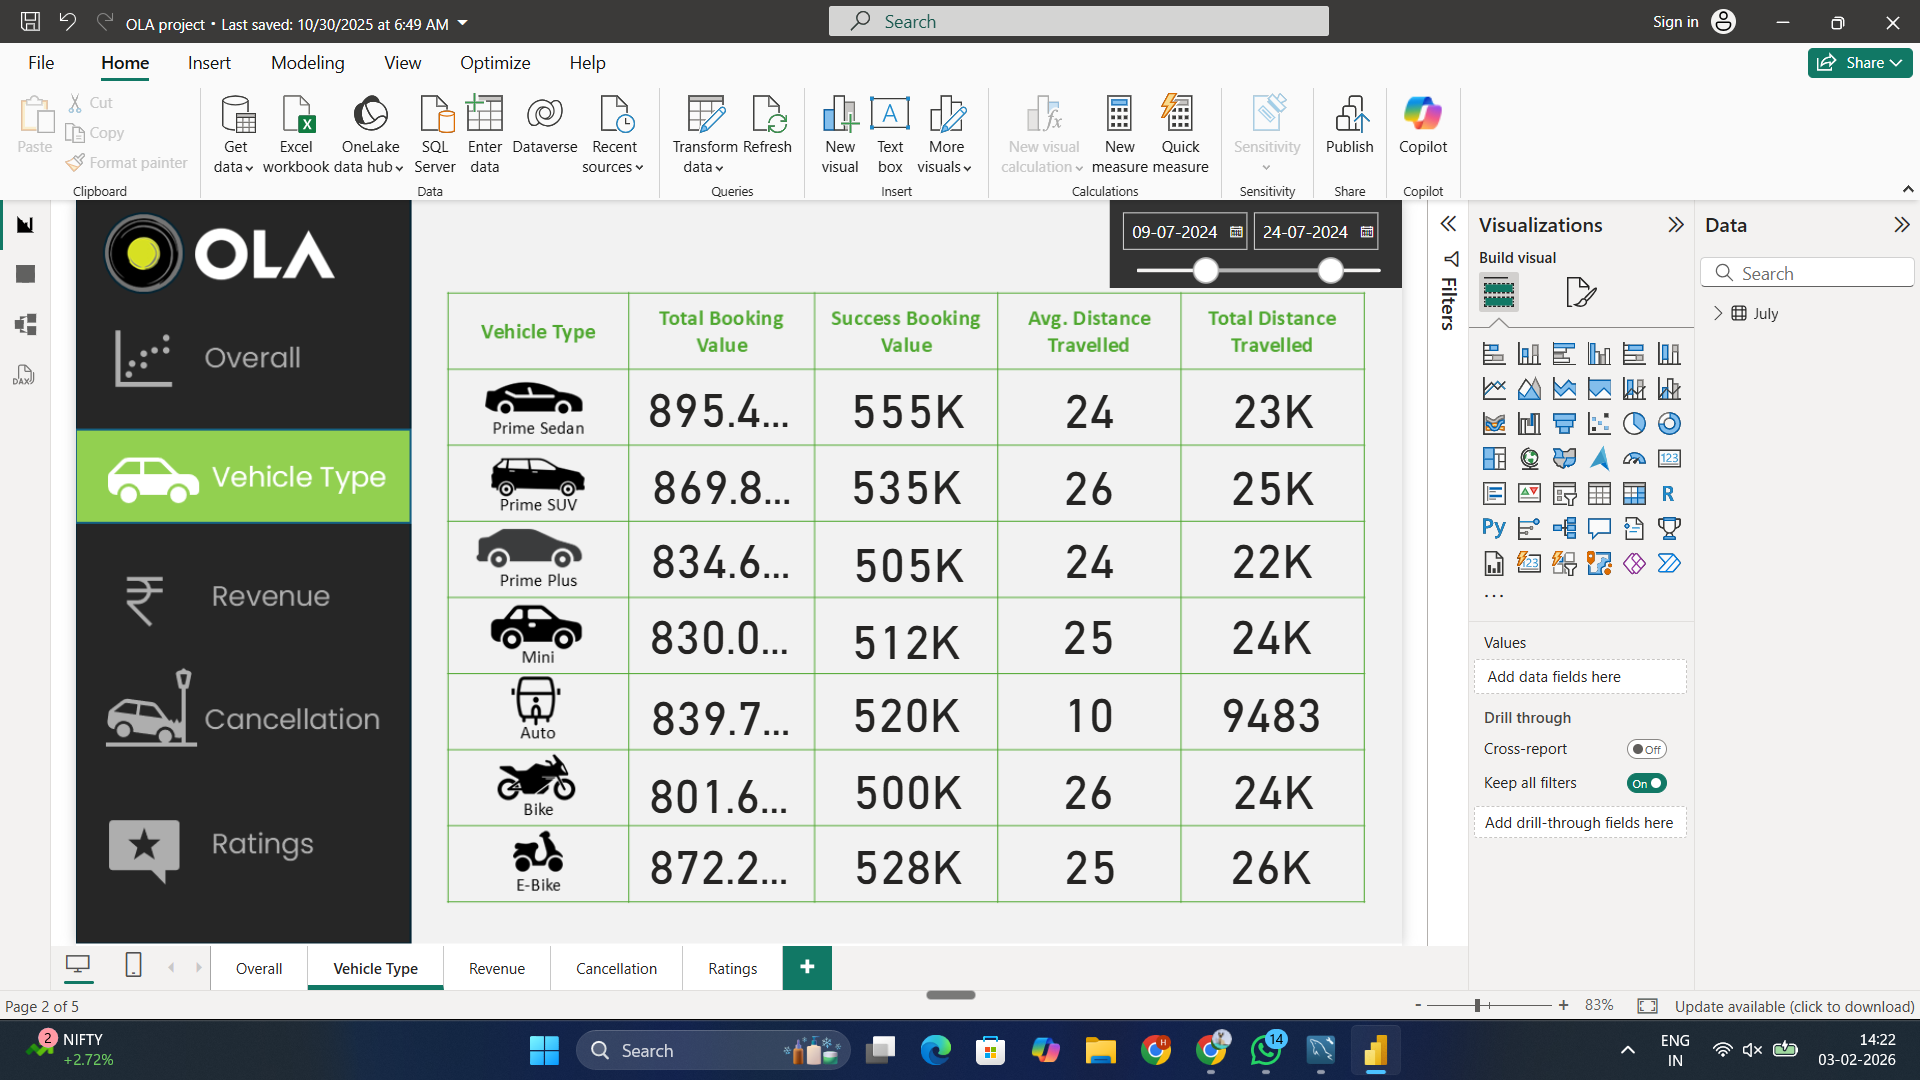

What the dashboard file says about the page in this screenshot:
{"tool":"powerbi","page":{"name":"Vehicle Type","canvas":[1280,720],"ordinal":1},"visuals":[{"type":"actionButton","box":[0,112.9,322.9,92.9],"z":0},{"type":"actionButton","box":[0,441.4,322.9,92.9],"z":1000},{"type":"actionButton","box":[0,334.3,322.9,92.9],"z":2000},{"type":"actionButton","box":[0,584.3,322.9,92.9],"z":3000},{"type":"actionButton","box":[0,220,324.3,92.9],"z":4000},{"type":"card","fields":{"Values":["July.Booking_Value"]},"box":[540.2,159.9,159.9,74.4],"z":5000},{"type":"card","fields":{"Values":["July.Booking_Value"]},"box":[543,235.7,161.2,74.4],"z":6000},{"type":"card","fields":{"Values":["July.Booking_Value"]},"box":[541.6,305.9,161.2,74.4],"z":7000},{"type":"card","fields":{"Values":["July.Booking_Value"]},"box":[540.2,380.4,161.2,74.4],"z":8000},{"type":"card","fields":{"Values":["July.Booking_Value"]},"box":[541.6,458.9,161.2,74.4],"z":9000},{"type":"card","fields":{"Values":["July.Booking_Value"]},"box":[540.2,533.3,159.9,74.4],"z":10000},{"type":"card","fields":{"Values":["July.Booking_Value"]},"box":[540.2,602.2,159.9,74.4],"z":11000},{"type":"card","fields":{"Values":["July.Booking_Value"]},"box":[722.1,161.2,159.9,74.4],"z":12000},{"type":"card","fields":{"Values":["July.Booking_Value"]},"box":[720.8,235.7,161.2,74.4],"z":13000},{"type":"card","fields":{"Values":["July.Booking_Value"]},"box":[722.1,310.1,161.2,74.4],"z":14000},{"type":"card","fields":{"Values":["July.Booking_Value"]},"box":[720.8,384.5,161.2,74.4],"z":15000},{"type":"card","fields":{"Values":["July.Booking_Value"]},"box":[720.8,454.8,161.2,74.4],"z":16000},{"type":"card","fields":{"Values":["July.Booking_Value"]},"box":[722.1,529.2,159.9,74.4],"z":17000},{"type":"card","fields":{"Values":["July.Booking_Value"]},"box":[722.1,602.2,159.9,74.4],"z":18000},{"type":"card","fields":{"Values":["July.Ride_Distance"]},"box":[898.8,161.7,159.3,74.8],"z":19000},{"type":"card","fields":{"Values":["July.Ride_Distance"]},"box":[897.6,236.5,160.5,73.6],"z":20000},{"type":"card","fields":{"Values":["July.Ride_Distance"]},"box":[897.6,306.4,161.7,74.8],"z":21000},{"type":"card","fields":{"Values":["July.Ride_Distance"]},"box":[897.6,380,160.5,74.8],"z":22000},{"type":"card","fields":{"Values":["July.Ride_Distance"]},"box":[897.6,454.8,160.5,74.8],"z":23000},{"type":"card","fields":{"Values":["July.Ride_Distance"]},"box":[897.6,529.6,159.3,74.8],"z":24000},{"type":"card","fields":{"Values":["July.Ride_Distance"]},"box":[900,602,159.3,74.8],"z":25000},{"type":"card","fields":{"Values":["July.Ride_Distance"]},"box":[1076.1,161.7,159.3,74.8],"z":26000},{"type":"card","fields":{"Values":["July.Ride_Distance"]},"box":[1074.9,236.5,160.5,73.6],"z":27000},{"type":"card","fields":{"Values":["July.Ride_Distance"]},"box":[1073.7,306.4,161.7,74.8],"z":28000},{"type":"card","fields":{"Values":["July.Ride_Distance"]},"box":[1073.7,380,160.5,74.8],"z":29000},{"type":"card","fields":{"Values":["July.Ride_Distance"]},"box":[1073.7,454.8,160.5,74.8],"z":30000},{"type":"card","fields":{"Values":["July.Ride_Distance"]},"box":[1076.1,529.6,159.3,74.8],"z":31000},{"type":"card","fields":{"Values":["July.Ride_Distance"]},"box":[1073.7,602,159.3,74.8],"z":32000},{"type":"slicer","title":"Date","fields":{"Values":["July.Date"]},"box":[997.8,0,282.5,84.1],"z":33000}]}

Visuals, with their boxes on the page's 1280x720 design canvas (x1, y1, x2, y2). These are canvas units, not pixel positions in the 1920x1080 screenshot, which may show the page scaled, cropped or inside an application window:
actionButton: 0 113 323 206
actionButton: 0 441 323 534
actionButton: 0 334 323 427
actionButton: 0 584 323 677
actionButton: 0 220 324 313
card - July.Booking_Value: 540 160 700 234
card - July.Booking_Value: 543 236 704 310
card - July.Booking_Value: 542 306 703 380
card - July.Booking_Value: 540 380 701 455
card - July.Booking_Value: 542 459 703 533
card - July.Booking_Value: 540 533 700 608
card - July.Booking_Value: 540 602 700 677
card - July.Booking_Value: 722 161 882 236
card - July.Booking_Value: 721 236 882 310
card - July.Booking_Value: 722 310 883 384
card - July.Booking_Value: 721 384 882 459
card - July.Booking_Value: 721 455 882 529
card - July.Booking_Value: 722 529 882 604
card - July.Booking_Value: 722 602 882 677
card - July.Ride_Distance: 899 162 1058 236
card - July.Ride_Distance: 898 236 1058 310
card - July.Ride_Distance: 898 306 1059 381
card - July.Ride_Distance: 898 380 1058 455
card - July.Ride_Distance: 898 455 1058 530
card - July.Ride_Distance: 898 530 1057 604
card - July.Ride_Distance: 900 602 1059 677
card - July.Ride_Distance: 1076 162 1235 236
card - July.Ride_Distance: 1075 236 1235 310
card - July.Ride_Distance: 1074 306 1235 381
card - July.Ride_Distance: 1074 380 1234 455
card - July.Ride_Distance: 1074 455 1234 530
card - July.Ride_Distance: 1076 530 1235 604
card - July.Ride_Distance: 1074 602 1233 677
"Date" slicer: 998 0 1280 84
